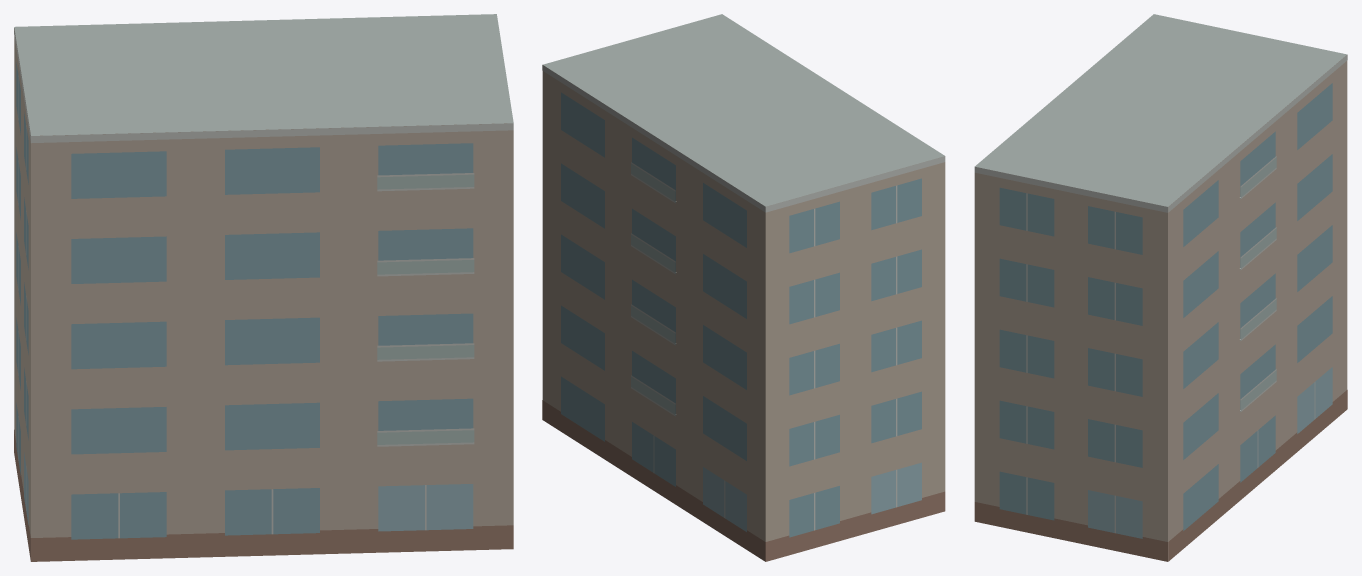
The model's file is survey-upis-32852736.glb.
3 views of the same model, side by side, from view 1: azimuth 30°, elevation 25°; view 2: azimuth 150°, elevation 25°; view 3: azimuth 270°, elevation 25° (orthographic). The views are drawn at different scales.
Visible parts, largest first — view 1: survey-upis-32852736.tmp; view 2: survey-upis-32852736.tmp; view 3: survey-upis-32852736.tmp.
Boxes of the visible parts, x1,y1,x2,y2 form: survey-upis-32852736.tmp: [14, 14, 513, 561]; survey-upis-32852736.tmp: [542, 14, 945, 561]; survey-upis-32852736.tmp: [974, 14, 1347, 561].
Size of the model in its own units: 16.97 by 14.55 by 13.86.
